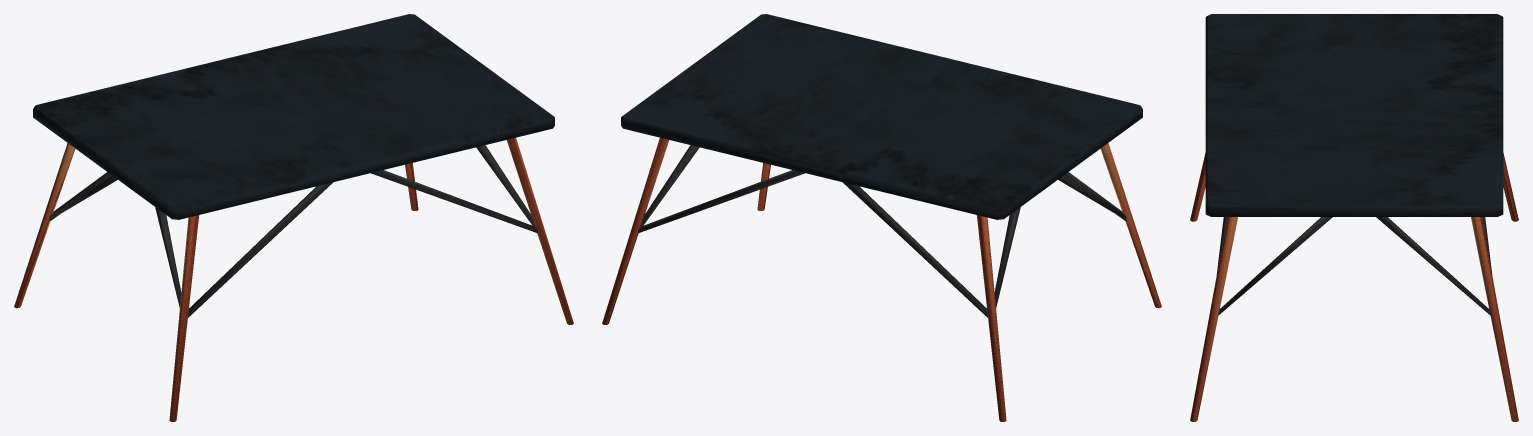
Rendered from KitchenTable.fbx.
3 views of the same model, side by side, from view 1: azimuth 30°, elevation 25°; view 2: azimuth 150°, elevation 25°; view 3: azimuth 270°, elevation 25° (orthographic). The views are drawn at different scales.
Visible parts, largest first — view 1: Top, Leg, Support, Support2; view 2: Top, Leg, Support, Support2; view 3: Top, Leg, Support2.
Boxes of the visible parts, left/top/right/bottom form: Top: left=33, top=14, right=554, bottom=219; Leg: left=14, top=137, right=573, bottom=421; Support: left=50, top=170, right=538, bottom=317; Support2: left=49, top=145, right=534, bottom=308; Top: left=621, top=14, right=1142, bottom=219; Leg: left=602, top=137, right=1161, bottom=421; Support: left=637, top=170, right=1125, bottom=317; Support2: left=641, top=145, right=1126, bottom=308; Top: left=1205, top=14, right=1503, bottom=216; Leg: left=1190, top=153, right=1518, bottom=421; Support2: left=1218, top=217, right=1490, bottom=315.
Bounding box in the file's own units: 2297 × 1110 × 1571.
